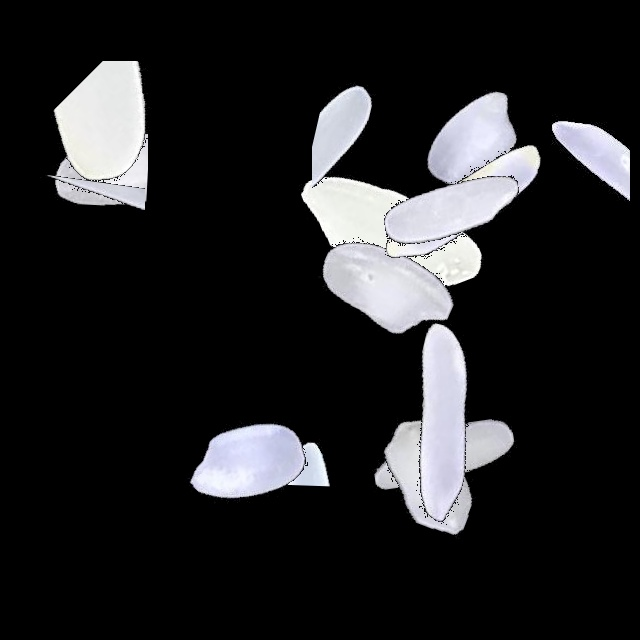Broken: (5, 42, 148, 292), (495, 50, 630, 300), (312, 29, 443, 279), (3, 61, 253, 191), (26, 115, 145, 365), (282, 323, 357, 573)
Full: (348, 12, 598, 262), (268, 102, 518, 352), (259, 164, 509, 414), (319, 327, 569, 577), (123, 337, 373, 587), (339, 77, 589, 327), (306, 349, 556, 599), (328, 83, 578, 333), (315, 296, 565, 546)
